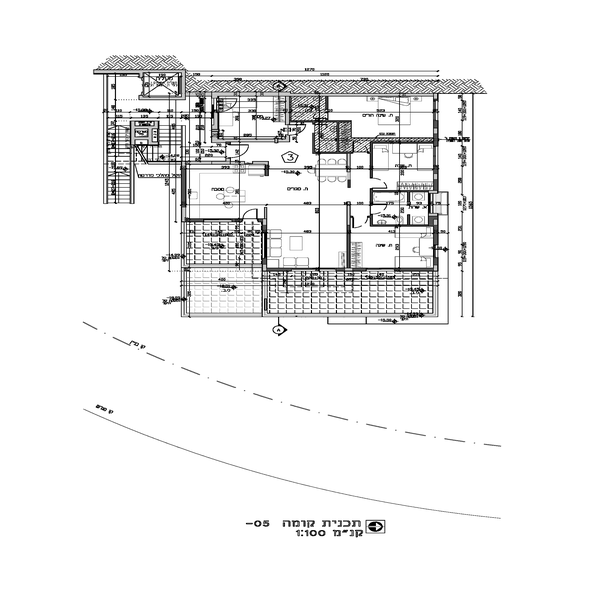door: (217, 139, 256, 163), (240, 206, 264, 235), (213, 89, 240, 114), (370, 198, 391, 223), (351, 215, 371, 234), (372, 177, 391, 191)
room: (335, 188, 440, 274), (175, 154, 272, 229), (307, 91, 437, 146), (200, 81, 296, 142), (365, 133, 441, 194)
wall: (430, 95, 441, 189), (344, 202, 356, 266), (431, 217, 442, 274), (179, 164, 190, 206), (371, 140, 433, 146), (369, 139, 376, 177)
